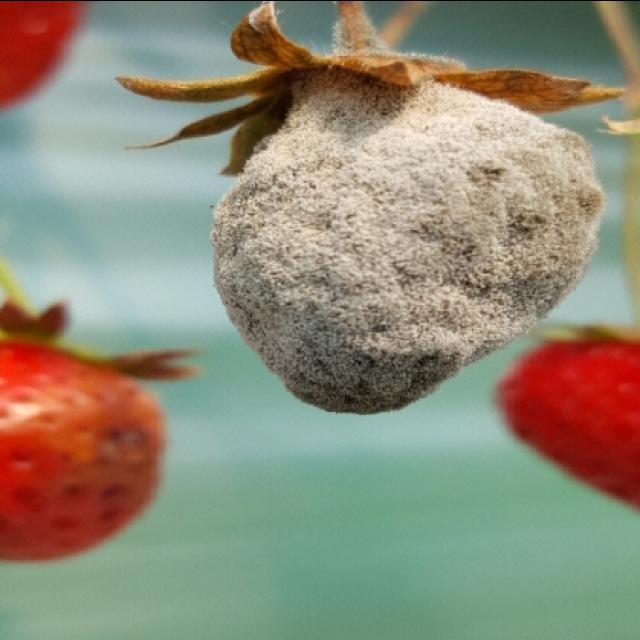Gray Mold: (113, 5, 632, 416)
